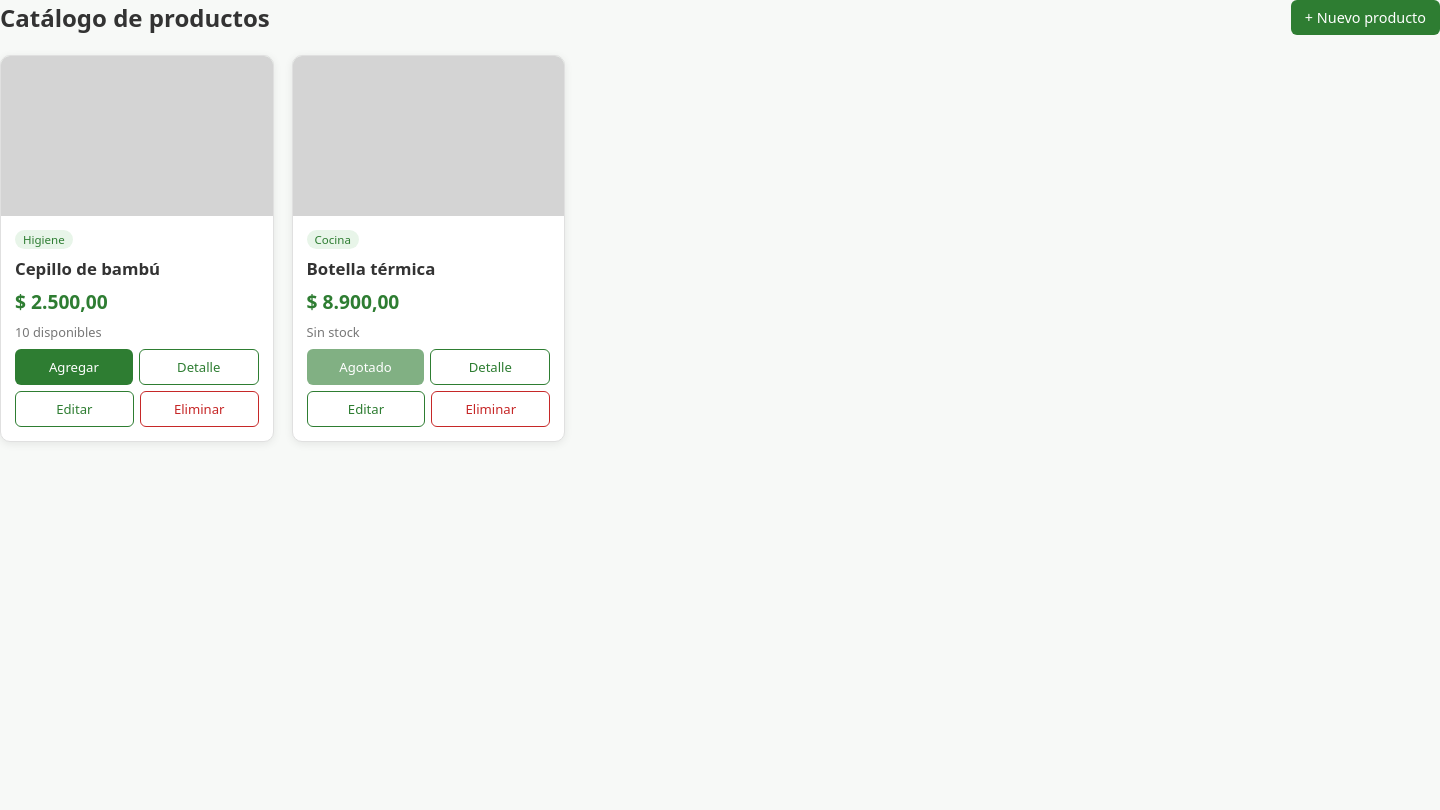
Test: Catalogo › abre el formulario de nuevo producto
Expected: the heading "Cepillo de bambú" is shown, [15,257,160,280]
Click the button "+ Nuevo producto" at (1365, 18), box [1291,0,1439,35]
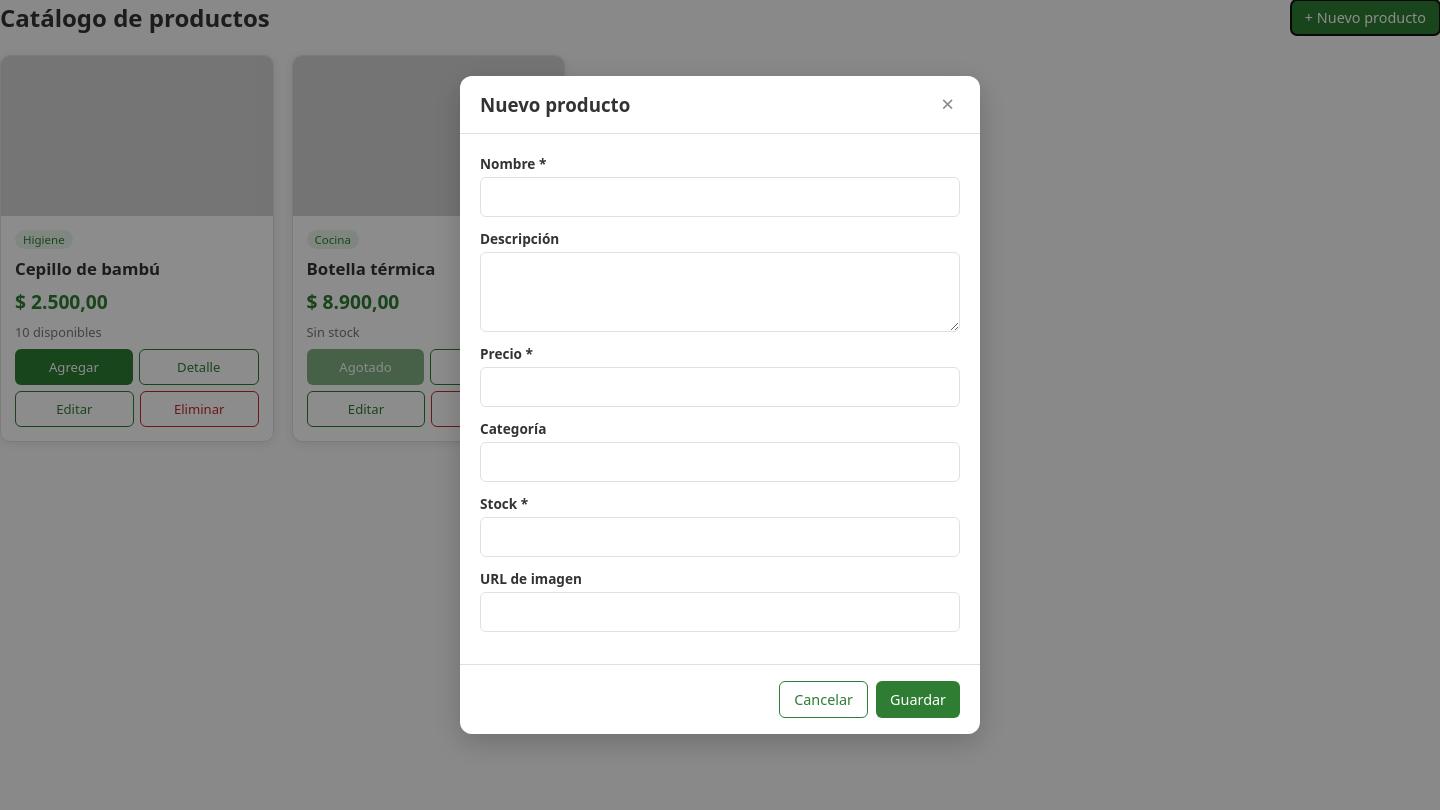
Now the heading "Nuevo producto" is shown, box [480,92,630,117]
